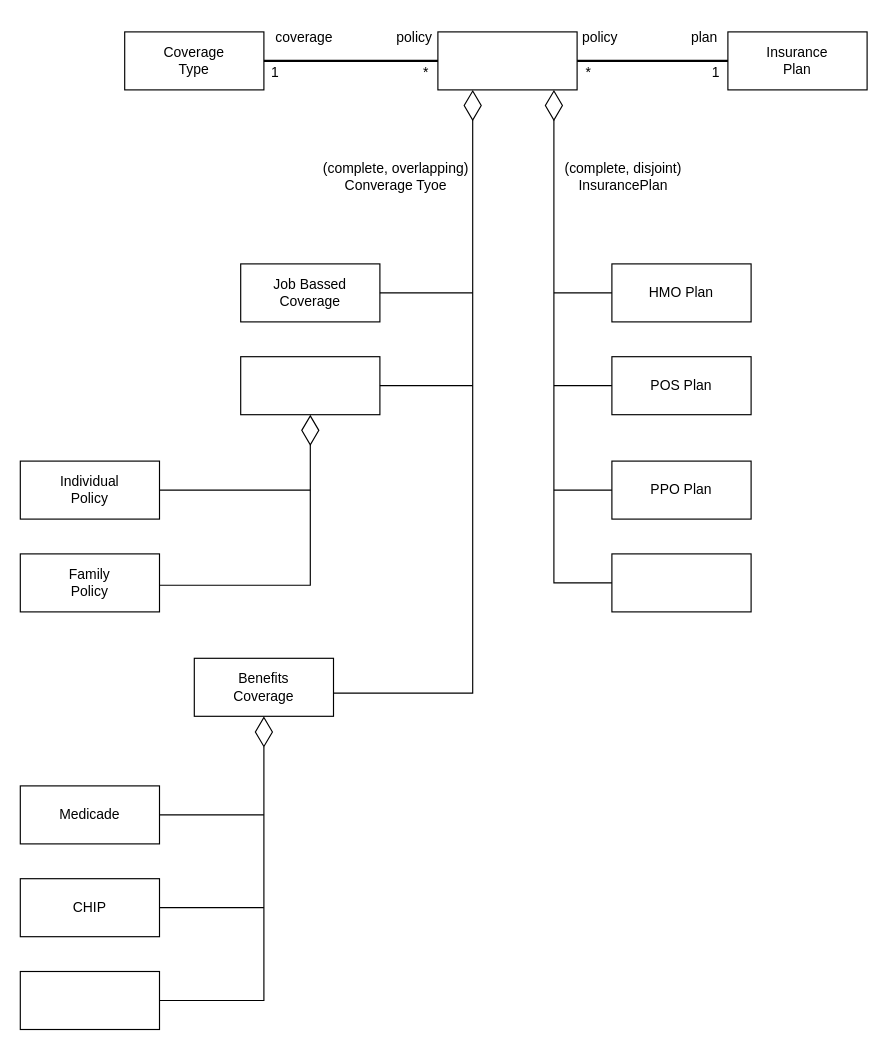
This 887x1051 diagram has some shape labels left out. Each missing label, with the centre of its shape:
"FFS Plan" goes at [681,582].
"Health Insurance Policy" goes at [507,60].
"PCIP" goes at [89,1000].
"Self Coverage" goes at [310,385].
